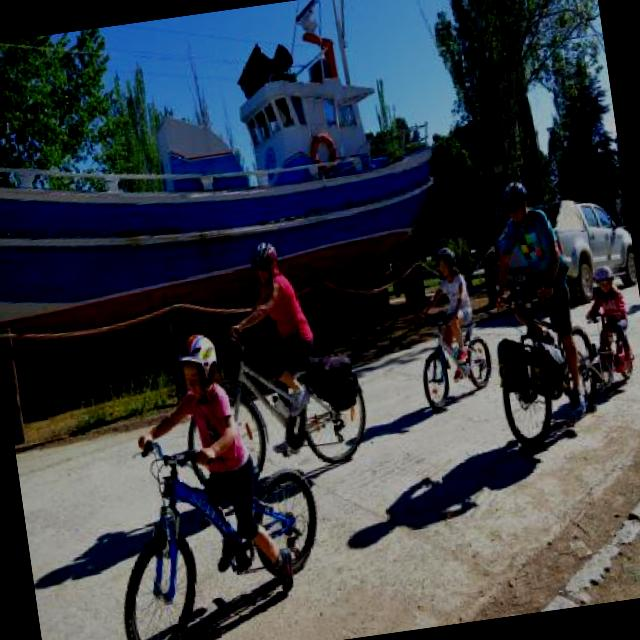Person: (124, 328, 300, 620), (481, 176, 587, 427), (228, 236, 326, 390), (412, 245, 484, 384), (580, 265, 630, 368)
